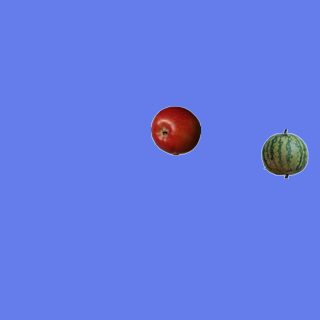Apple Braeburn: (150, 105, 200, 155)
Watermelon: (259, 128, 309, 178)
